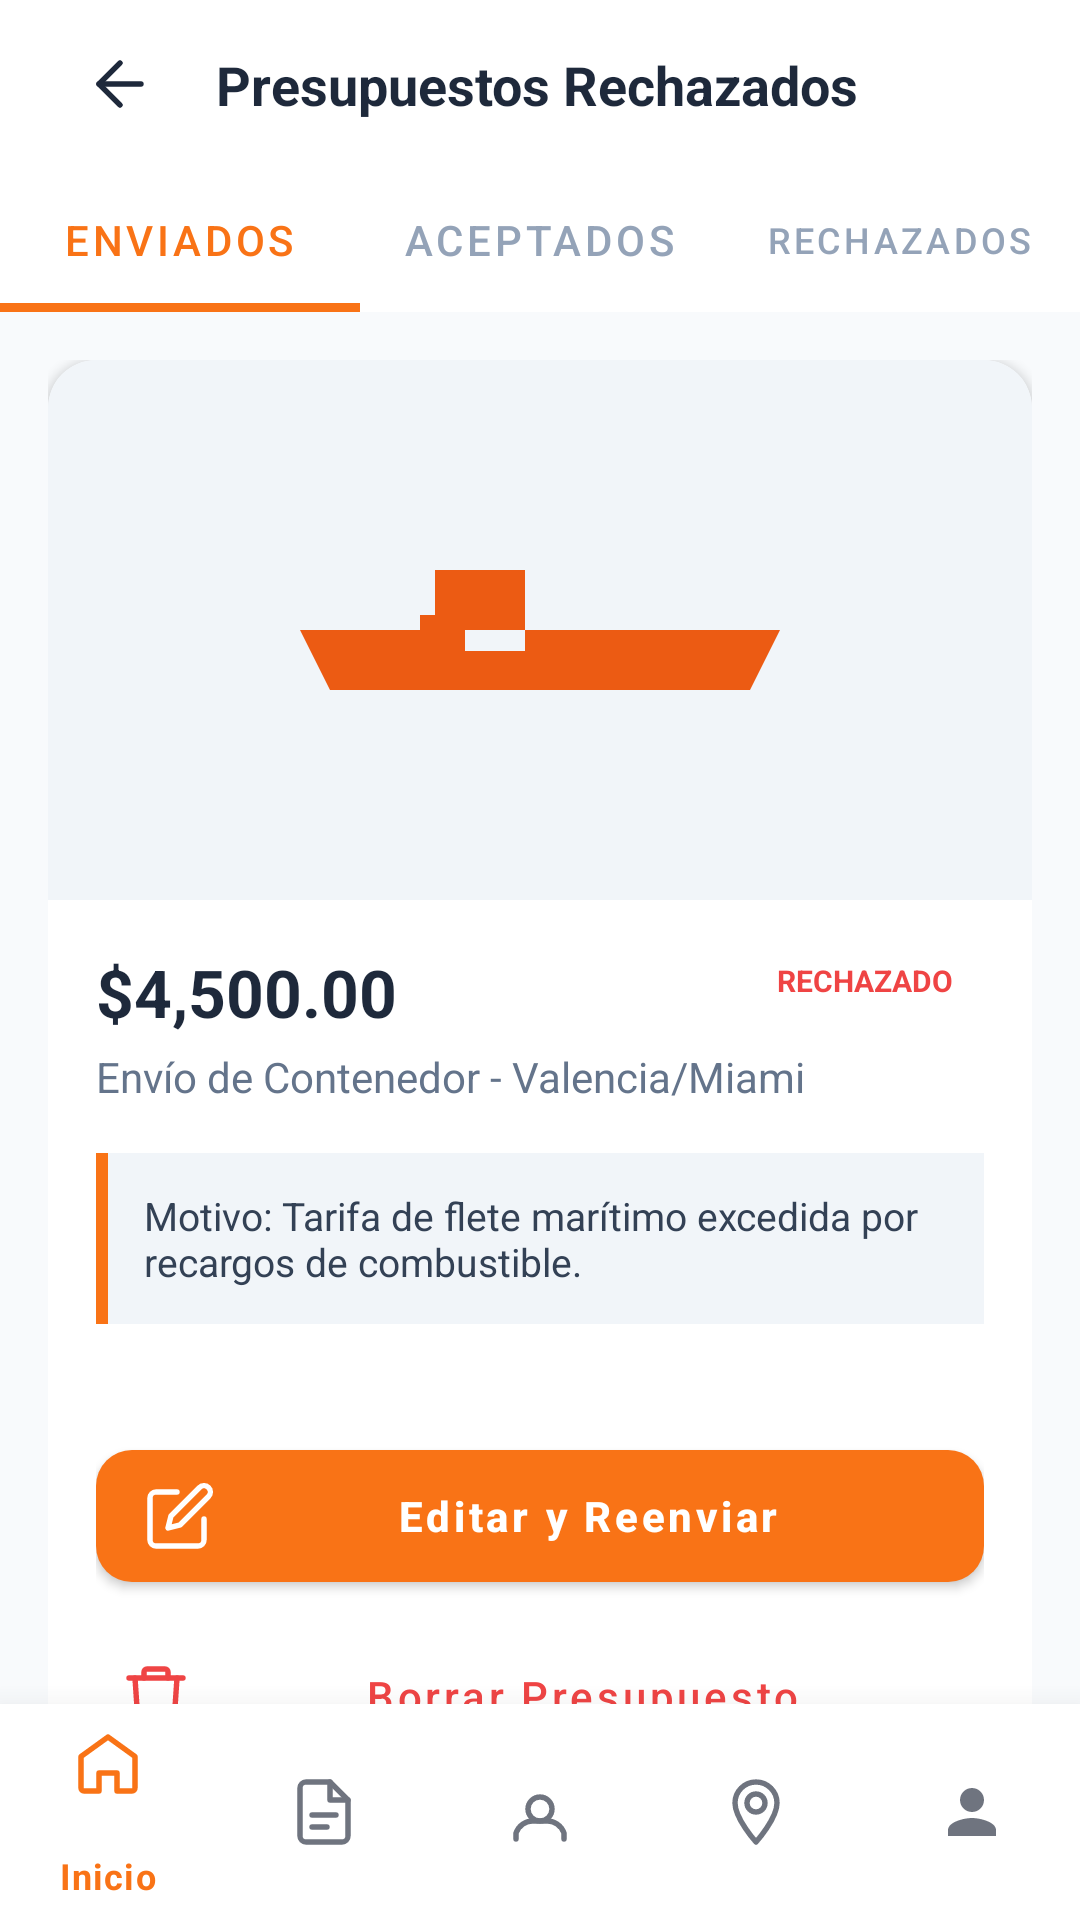

Screen size 1080×1920. Icon name, then its box in pixels as box=[x1, y1, x2, y2]:
arrow back: box=[96, 60, 144, 108]
